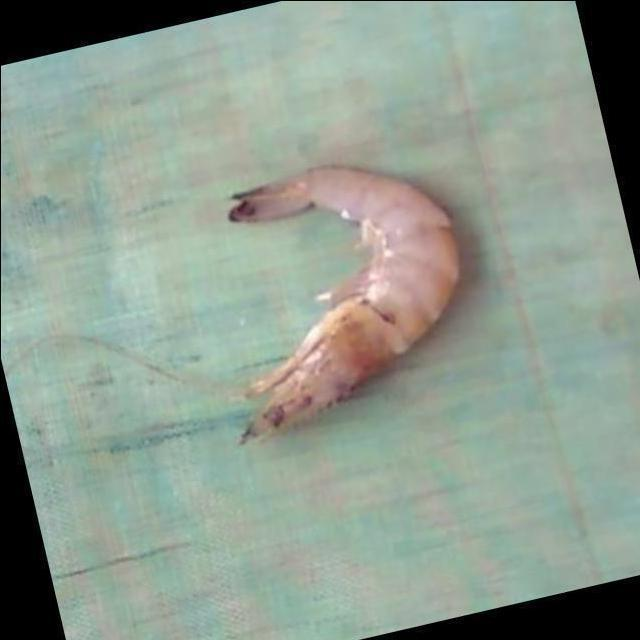shrimp: (229, 165, 460, 442)
